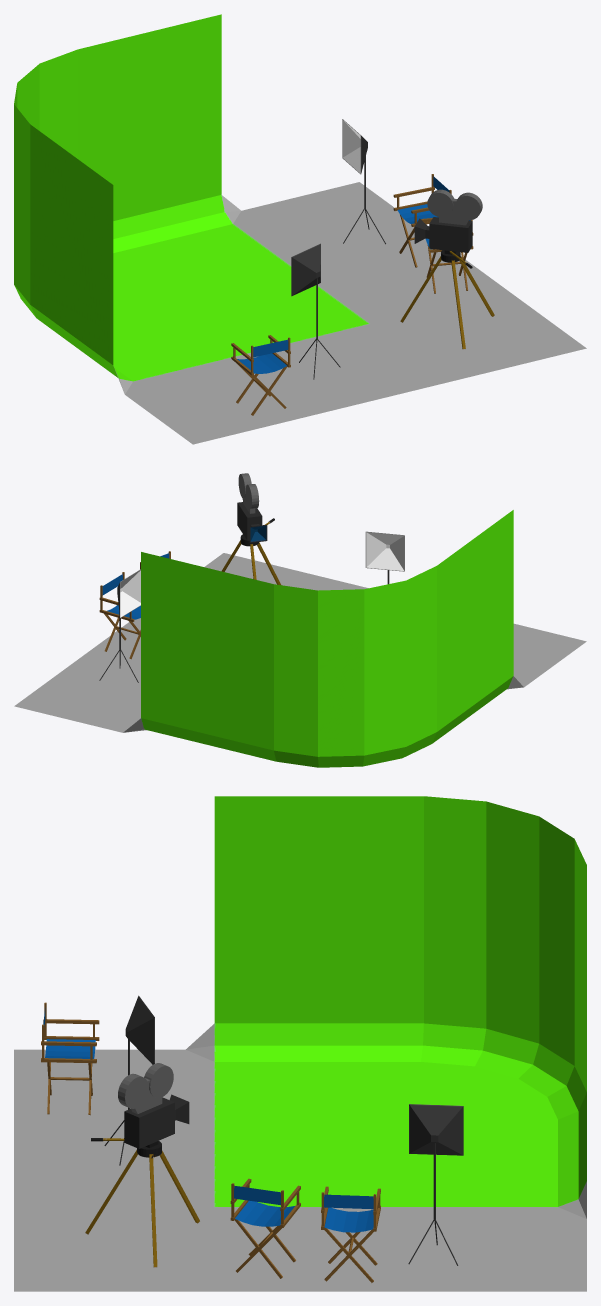
File: greenscreen.glb
The picture shows the model from 3 angles, top to bottom: view 1: azimuth 30°, elevation 25°; view 2: azimuth 150°, elevation 25°; view 3: azimuth 270°, elevation 25°; orthographic projection. The views are drawn at different scales.
Parts seen in each view (by area): view 1: Floor and wall, camera, chair1, floodlight.001, chair2, floodlight; view 2: Floor and wall, camera, floodlight.001, floodlight, chair2; view 3: Floor and wall, camera, floodlight, chair, chair2, chair1, floodlight.001.
Part boxes in pixels (<box>): Floor and wall: <box>14,14,586,444</box>; camera: <box>400,189,494,349</box>; chair1: <box>231,335,290,415</box>; floodlight.001: <box>291,243,340,379</box>; chair2: <box>393,174,451,267</box>; floodlight: <box>342,119,385,244</box>; Floor and wall: <box>14,510,586,767</box>; camera: <box>221,473,281,585</box>; floodlight.001: <box>365,531,404,584</box>; floodlight: <box>99,569,140,682</box>; chair2: <box>99,572,140,659</box>; Floor and wall: <box>14,796,586,1291</box>; camera: <box>85,1063,199,1267</box>; floodlight: <box>408,1104,463,1265</box>; chair: <box>230,1178,300,1278</box>; chair2: <box>321,1186,380,1282</box>; chair1: <box>41,1002,99,1115</box>; floodlight.001: <box>104,995,154,1165</box>.
Size of the model in its own units: 6.9 by 3.37 by 6.9.
Materials: 7 (7 with a texture image).
